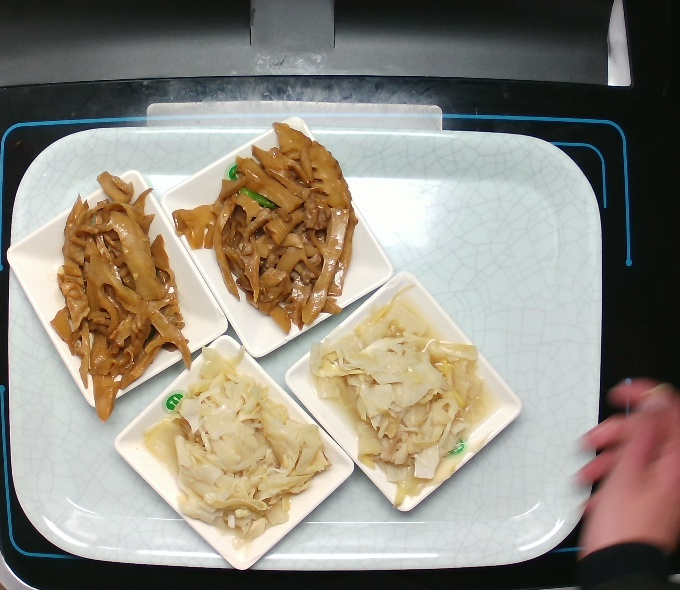wcq-LuSun: (307, 282, 488, 514), (143, 341, 336, 545)
wcq-SunGan: (167, 117, 363, 339), (42, 168, 195, 430)
